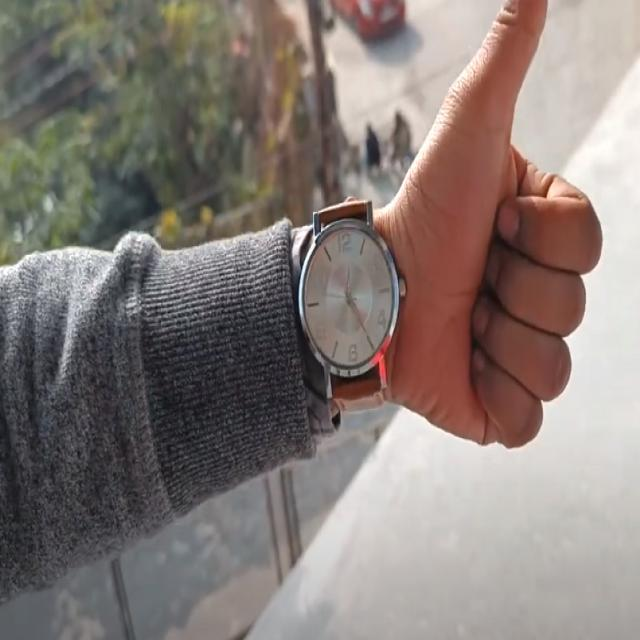Watch: (295, 188, 407, 422)
